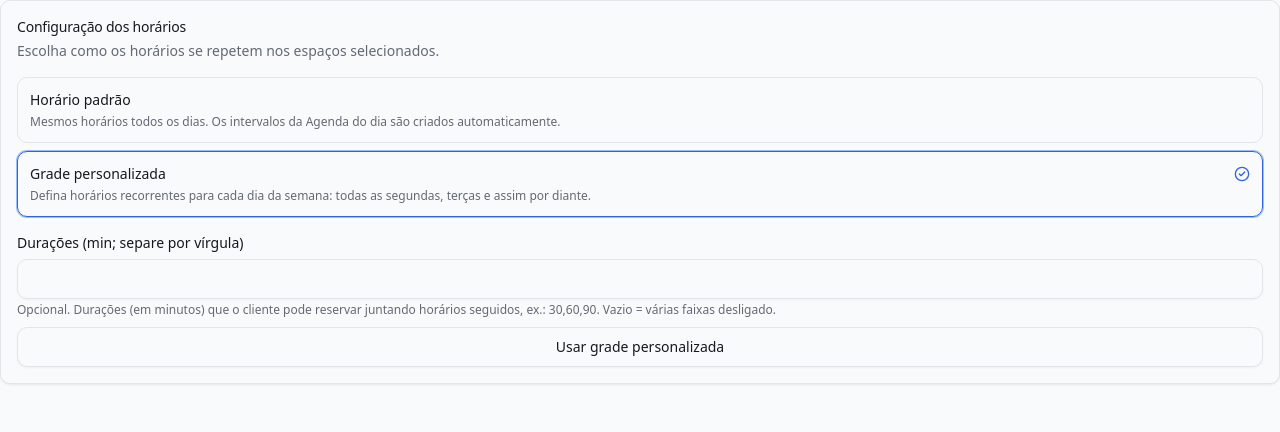
Test case: SchedulePolicyPanel › derives standard hours from the saved weekly grid and does not offer reseeding
The width and height of the screenshot is (1280, 432).
Click the button "Horário padrão": (80, 100) 17,77 -> 1263,143
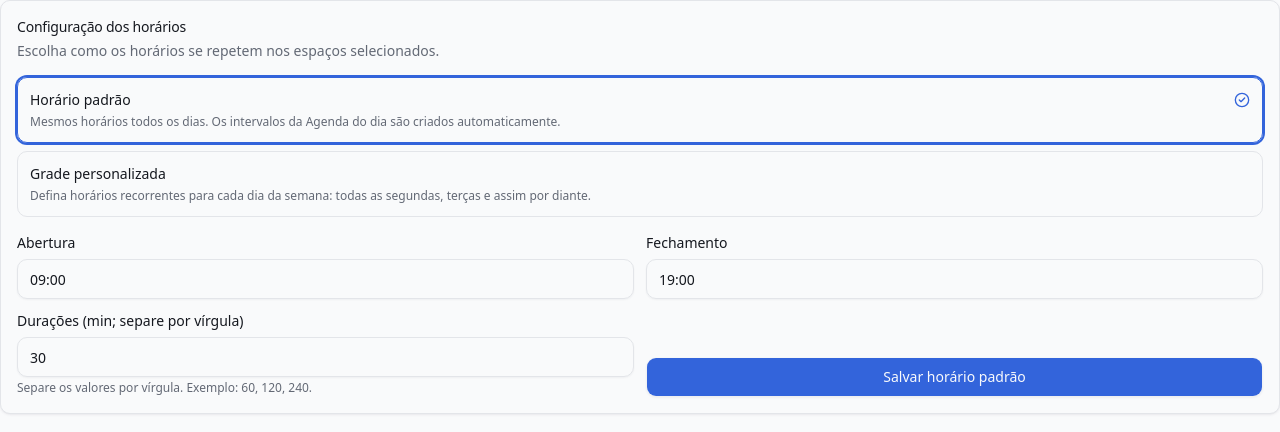
expect the field labelled "Abertura" holds "09:00": met, box 17,259 -> 634,299
expect the field labelled "Fechamento" holds "19:00": met, box 646,259 -> 1263,299
expect the field labelled "Durações (min; separe por vírgula)" holds "30": met, box 17,337 -> 634,377
